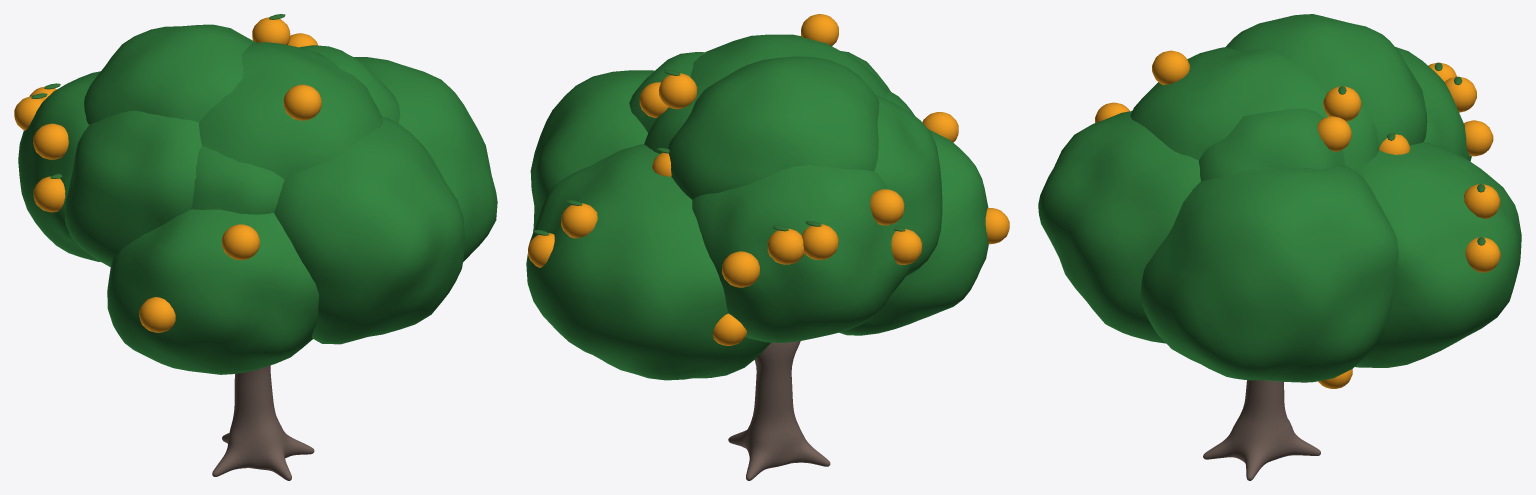
Rendered from mandarin.glb.
The picture shows the model from 3 angles, left to right: view 1: azimuth 30°, elevation 25°; view 2: azimuth 150°, elevation 25°; view 3: azimuth 270°, elevation 25°; orthographic projection.
Visible parts, largest first — view 1: leaf_5, leaf_4, leaf_0, leaf_7, leaf_8, leaf_1, fruit, leaf_3, trunk, leaf_6, leaf_9; view 2: leaf_2, leaf_3, leaf_8, fruit, leaf_4, leaf_1, leaf_7, trunk, leaf_0, leaf_9; view 3: leaf_1, leaf_2, leaf_5, leaf_0, leaf_8, fruit, leaf_9, trunk, leaf_3.
Boxes of the visible parts, x1,y1,x2,y2 form: leaf_5: (274,117,465,344); leaf_4: (107,209,319,374); leaf_0: (199,42,382,179); leaf_7: (65,110,201,266); leaf_8: (84,24,255,124); leaf_1: (354,57,497,261); fruit: (14,17,321,332); leaf_3: (18,71,101,262); trunk: (212,365,314,480); leaf_6: (191,145,284,214); leaf_9: (299,45,400,123); leaf_2: (526,144,770,380); leaf_3: (692,165,912,342); leaf_8: (668,56,879,199); fruit: (528,14,1009,345); leaf_4: (839,129,988,335); leaf_1: (530,70,654,230); leaf_7: (874,95,942,276); trunk: (728,341,830,480); leaf_0: (644,34,887,153); leaf_9: (629,52,707,132); leaf_1: (1140,165,1398,382); leaf_2: (1355,142,1521,367); leaf_5: (1038,111,1200,343); leaf_0: (1130,47,1379,171); leaf_8: (1226,14,1427,148); fruit: (1095,50,1500,388); leaf_9: (1199,108,1345,181); trunk: (1203,380,1320,480); leaf_3: (1395,47,1471,161).
Size of the model in its own units: 3.11 by 3.08 by 3.25.
